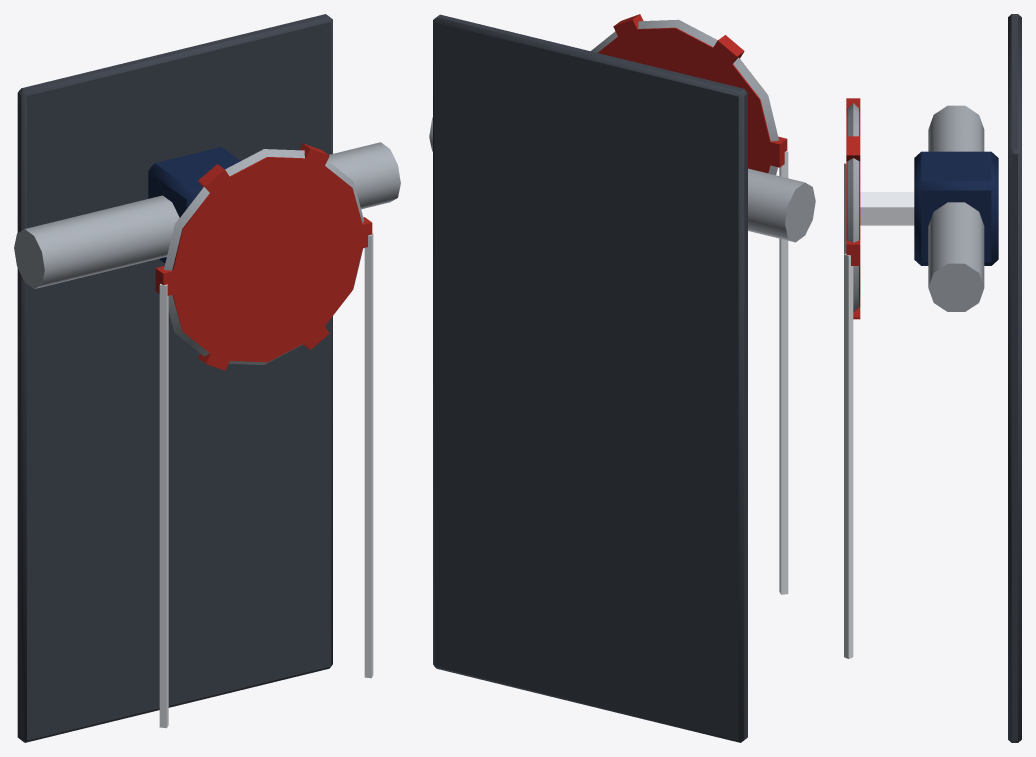
Rendered from valve_chain_wheel_valve.glb.
The picture shows the model from 3 angles, left to right: view 1: azimuth 30°, elevation 25°; view 2: azimuth 150°, elevation 25°; view 3: azimuth 270°, elevation 25°; orthographic projection. The views are drawn at different scales.
Visible parts, largest first — view 1: valve_chain_wheel_valve; view 2: valve_chain_wheel_valve; view 3: valve_chain_wheel_valve.
Part boxes in pixels (x1,y1,x2,y2): valve_chain_wheel_valve: (14, 14, 400, 742); valve_chain_wheel_valve: (429, 14, 815, 742); valve_chain_wheel_valve: (844, 14, 1021, 742).
Size of the model in its own units: 0.8 by 1.4 by 0.38.
